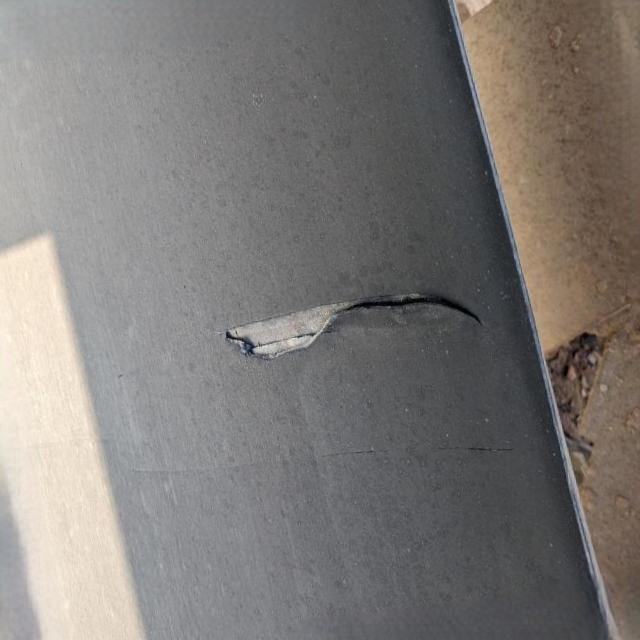Tear: (220, 286, 487, 364)
